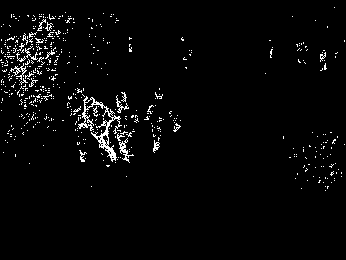person: (82, 93, 118, 165), (145, 87, 180, 156), (113, 91, 138, 169)
